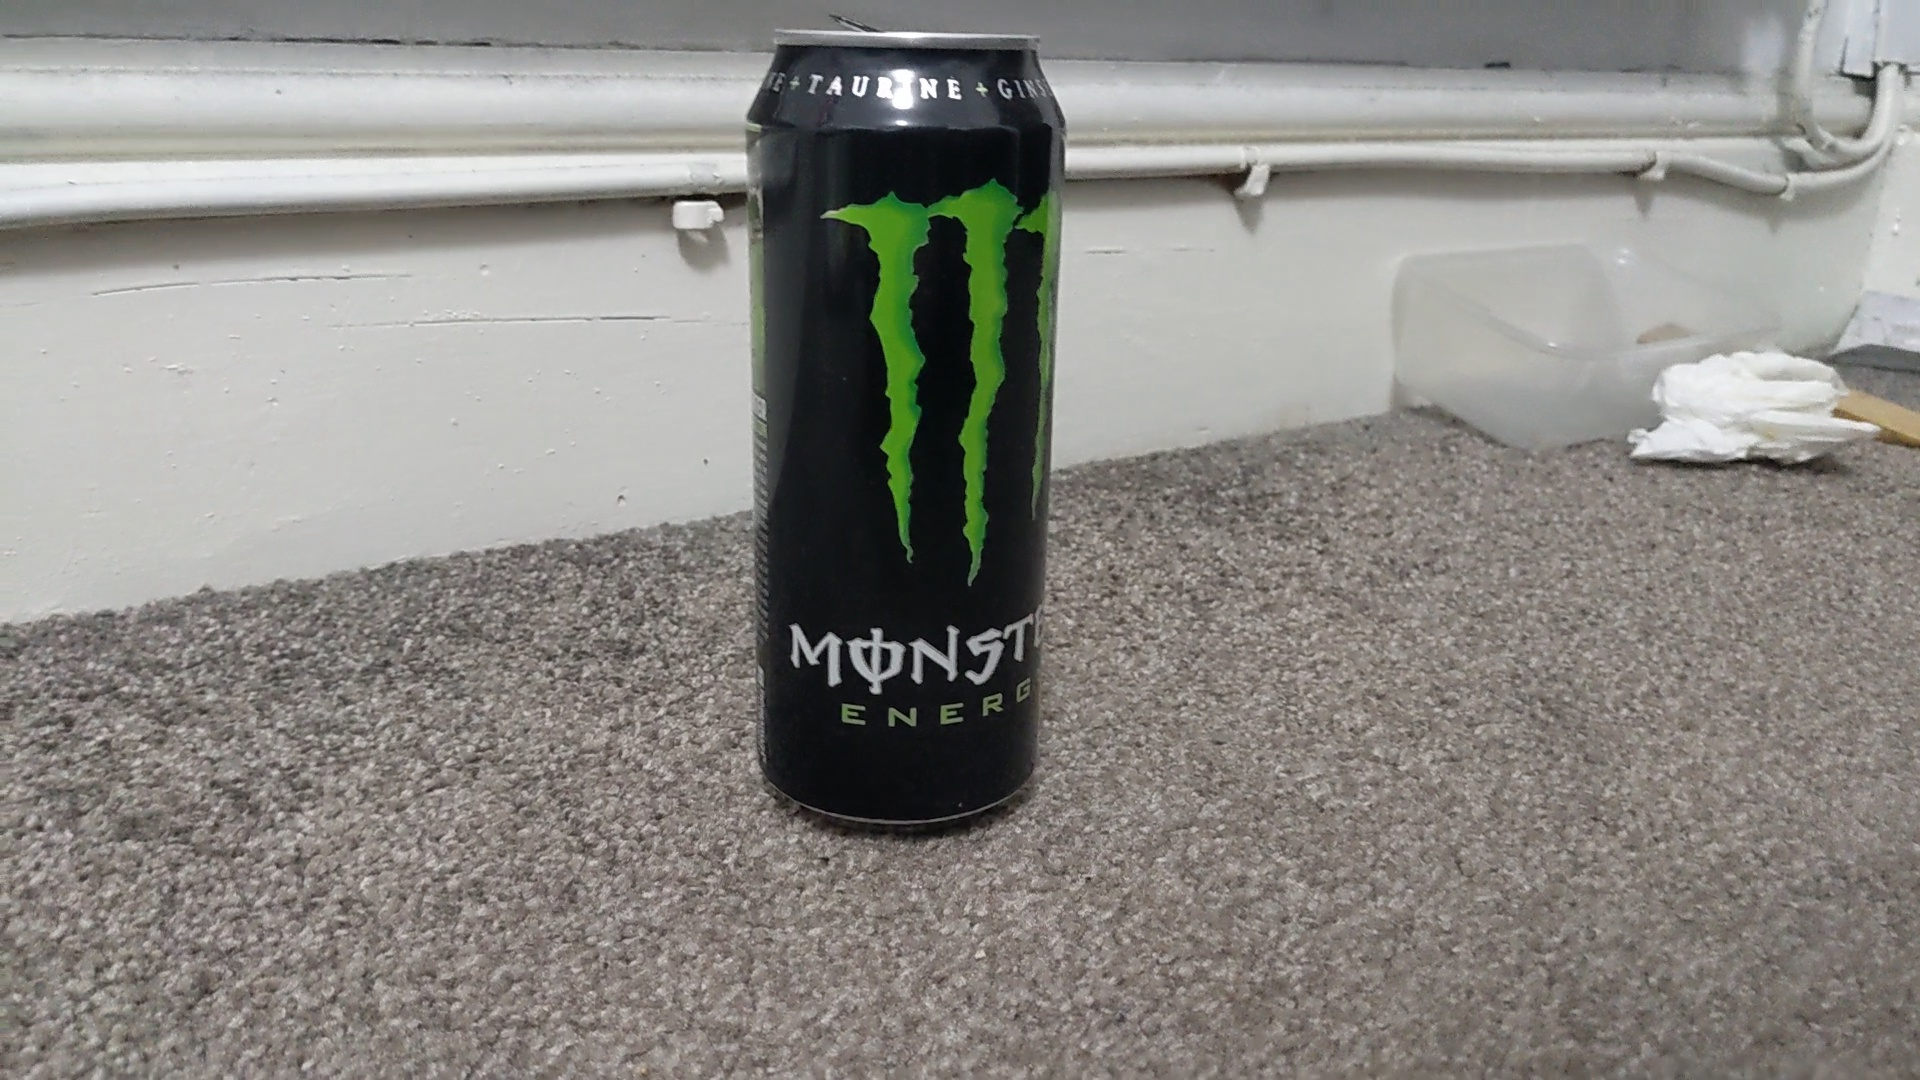monster-original: (732, 11, 1077, 845)
